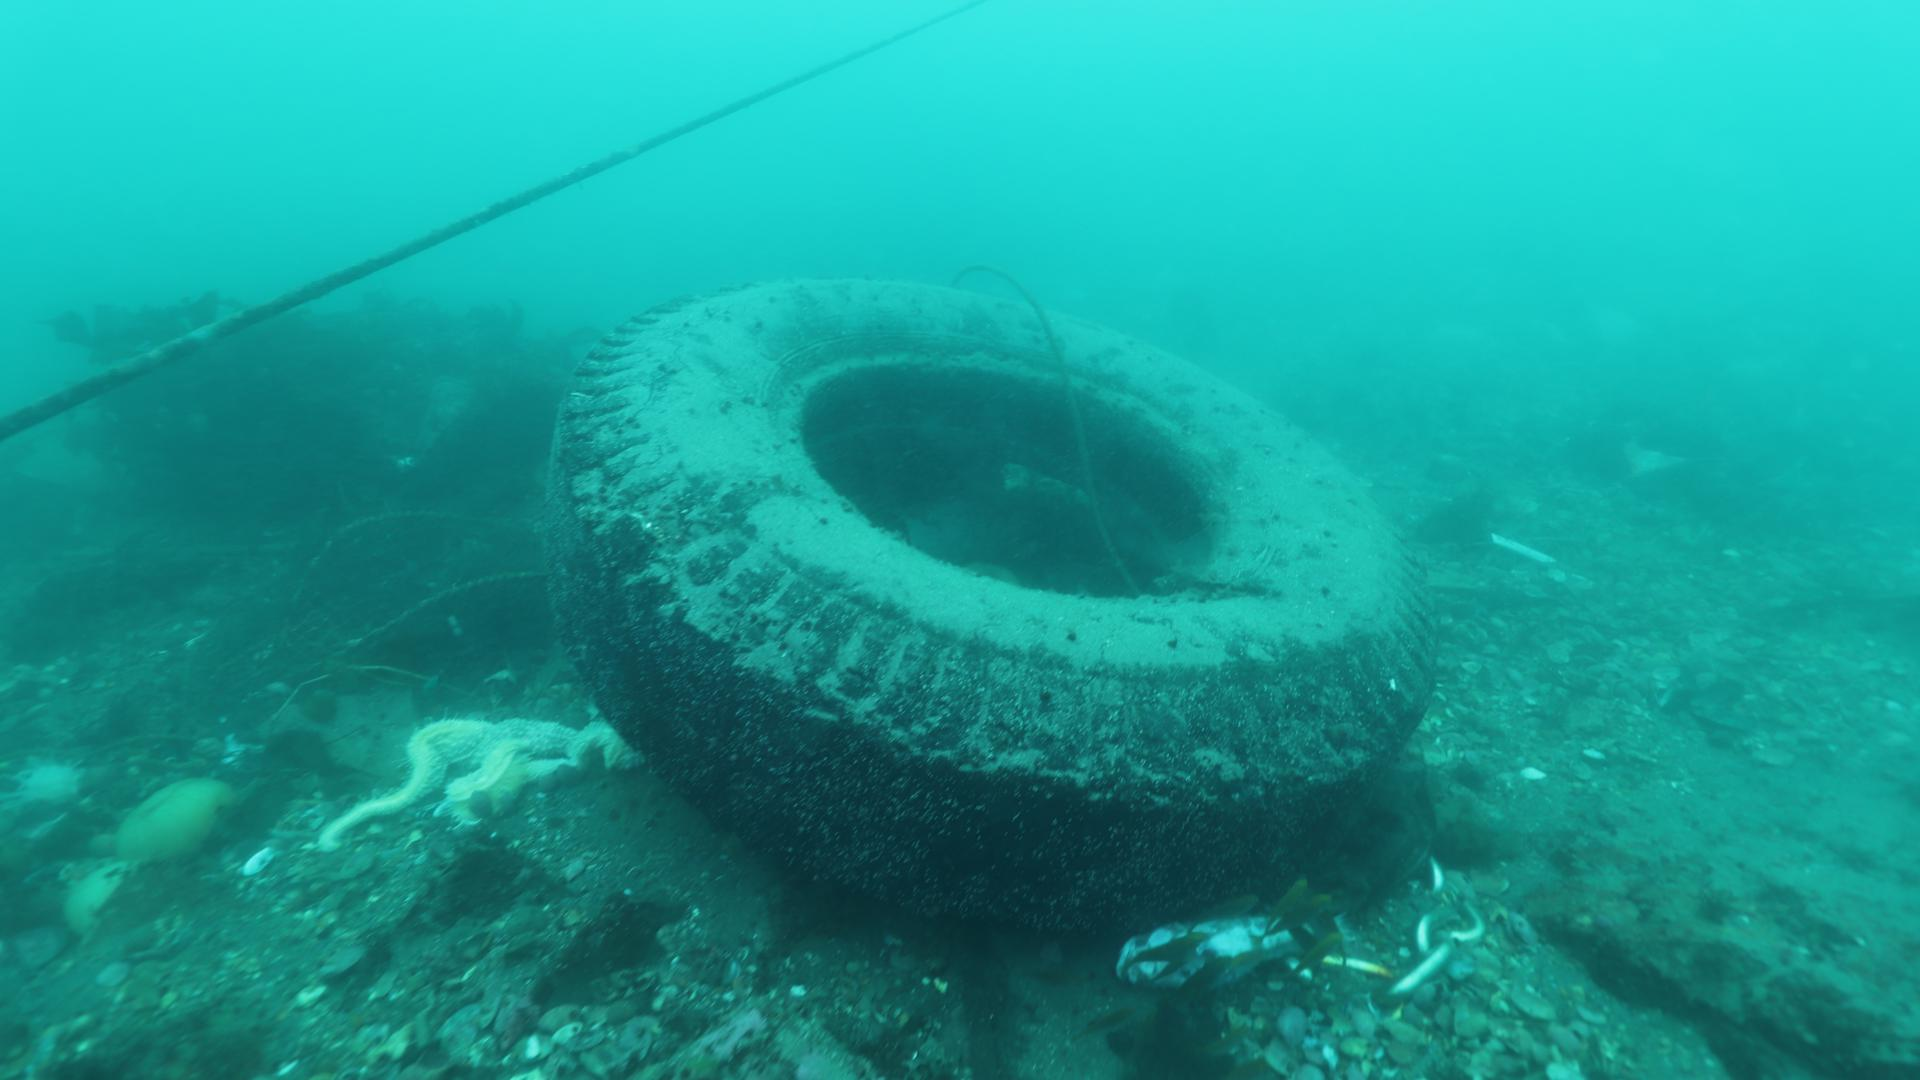tire: (542, 270, 1443, 924)
